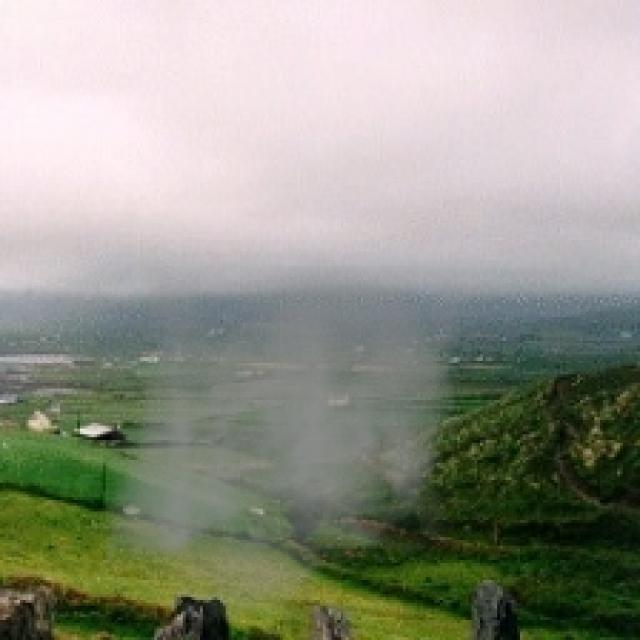Smoke: (106, 266, 460, 632)
